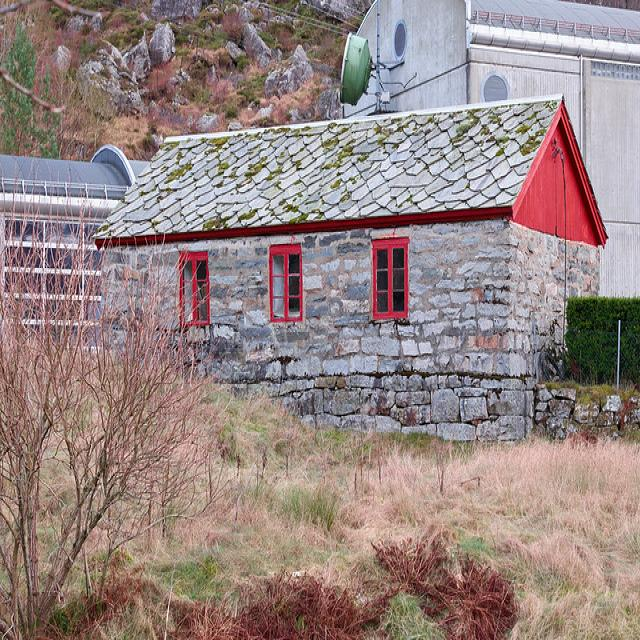Normal_building: (87, 93, 608, 448)
